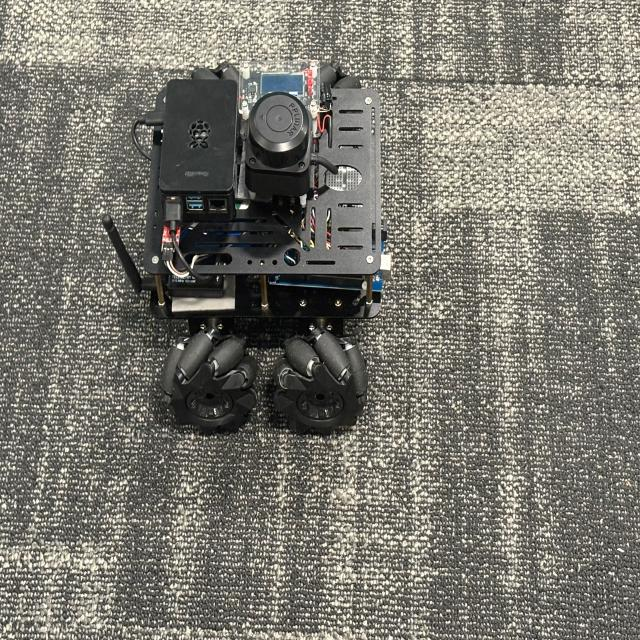ArduinoCar3: (101, 48, 397, 440)
